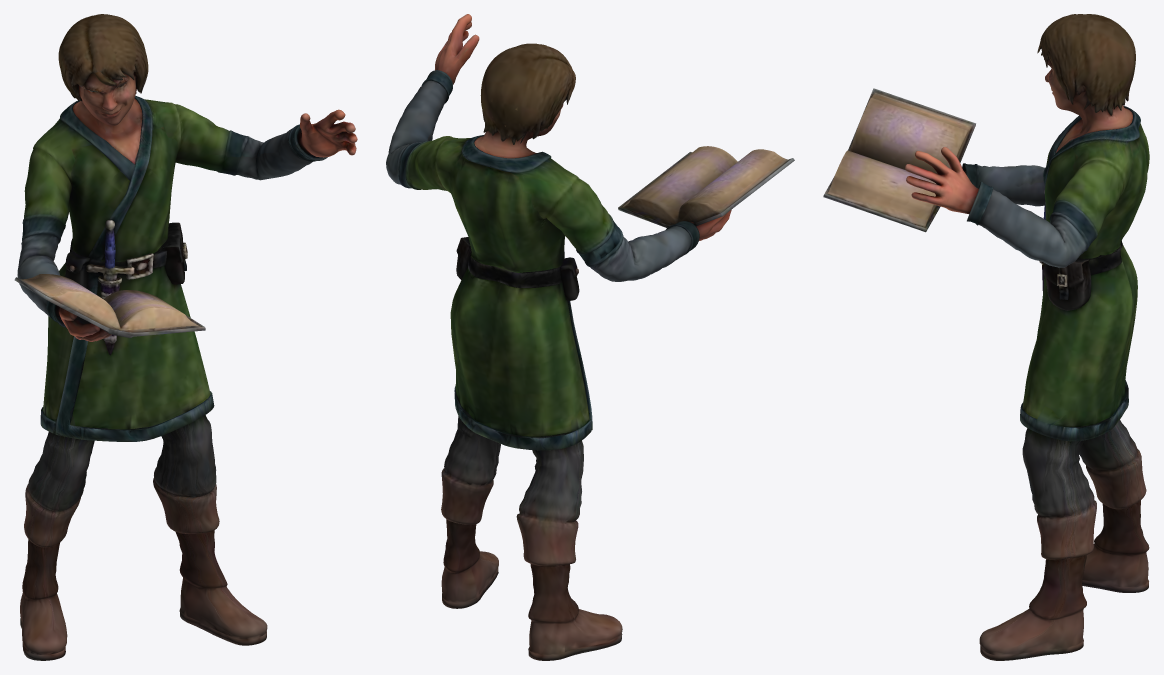
Rendered from MZ4250 - Apprentice Wizard_3.glb.
3 views of the same model, side by side, from view 1: azimuth 30°, elevation 25°; view 2: azimuth 150°, elevation 25°; view 3: azimuth 270°, elevation 25° (orthographic). The views are drawn at different scales.
Visible parts, largest first — view 1: Pouch Generic 3.001; view 2: Pouch Generic 3.001; view 3: Pouch Generic 3.001.
Boxes of the visible parts, left/top/right/bottom form: Pouch Generic 3.001: left=14, top=14, right=357, bottom=660; Pouch Generic 3.001: left=386, top=14, right=794, bottom=660; Pouch Generic 3.001: left=823, top=14, right=1149, bottom=660.
Bounding box in the file's own units: 0.4812 × 0.8256 × 0.4147.
Materials: 1 (1 with a texture image).
